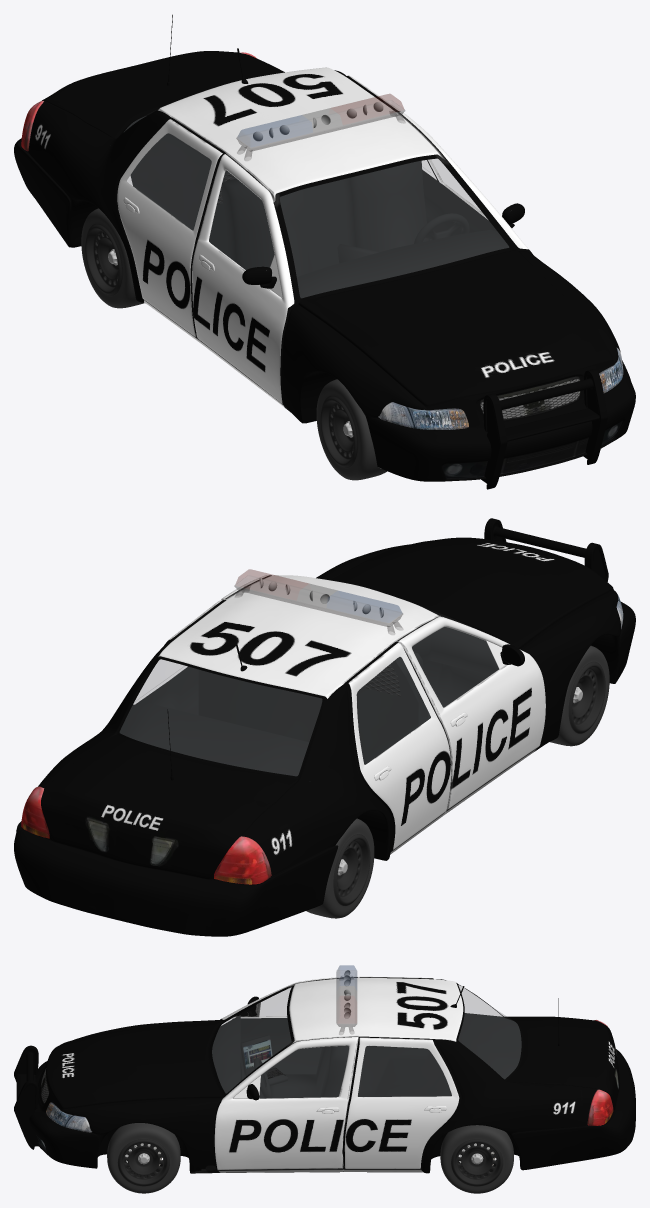
The model's file is police-car.glb.
3 views of the same model, one above another, from view 1: azimuth 30°, elevation 25°; view 2: azimuth 150°, elevation 25°; view 3: azimuth 270°, elevation 25° (orthographic). The views are drawn at different scales.
Parts seen in each view (by area): view 1: CrownVic.Body, windows glass, interior, CrownVic.Wheel.Ft.R, Roof light bar, CrownVic.Wheel.Bk.R; view 2: CrownVic.Body, windows glass, interior, Roof light bar, CrownVic.Wheel.Bk.R, CrownVic.Wheel.Ft.R; view 3: CrownVic.Body, windows glass, interior, CrownVic.Wheel.Ft.L, CrownVic.Wheel.Bk.L, Roof light bar.
Boxes of the visible parts, x1=… form: CrownVic.Body: x1=14, y1=14, x2=635, y2=489; windows glass: x1=126, y1=110, x2=508, y2=297; interior: x1=124, y1=116, x2=509, y2=298; CrownVic.Wheel.Ft.R: x1=316, y1=379, x2=386, y2=480; Roof light bar: x1=236, y1=94, x2=405, y2=160; CrownVic.Wheel.Bk.R: x1=81, y1=208, x2=144, y2=308; CrownVic.Body: x1=14, y1=518, x2=635, y2=936; windows glass: x1=120, y1=608, x2=498, y2=775; interior: x1=119, y1=615, x2=498, y2=776; Roof light bar: x1=234, y1=569, x2=403, y2=634; CrownVic.Wheel.Bk.R: x1=306, y1=818, x2=374, y2=918; CrownVic.Wheel.Ft.R: x1=550, y1=645, x2=609, y2=746; CrownVic.Body: x1=14, y1=976, x2=635, y2=1173; windows glass: x1=212, y1=985, x2=521, y2=1098; interior: x1=212, y1=1013, x2=521, y2=1098; CrownVic.Wheel.Ft.L: x1=107, y1=1123, x2=180, y2=1193; CrownVic.Wheel.Bk.L: x1=440, y1=1125, x2=513, y2=1193; Roof light bar: x1=336, y1=965, x2=356, y2=1034.
Size of the model in its own units: 2.48 by 1.98 by 6.7.
7 materials, 5 textured.
